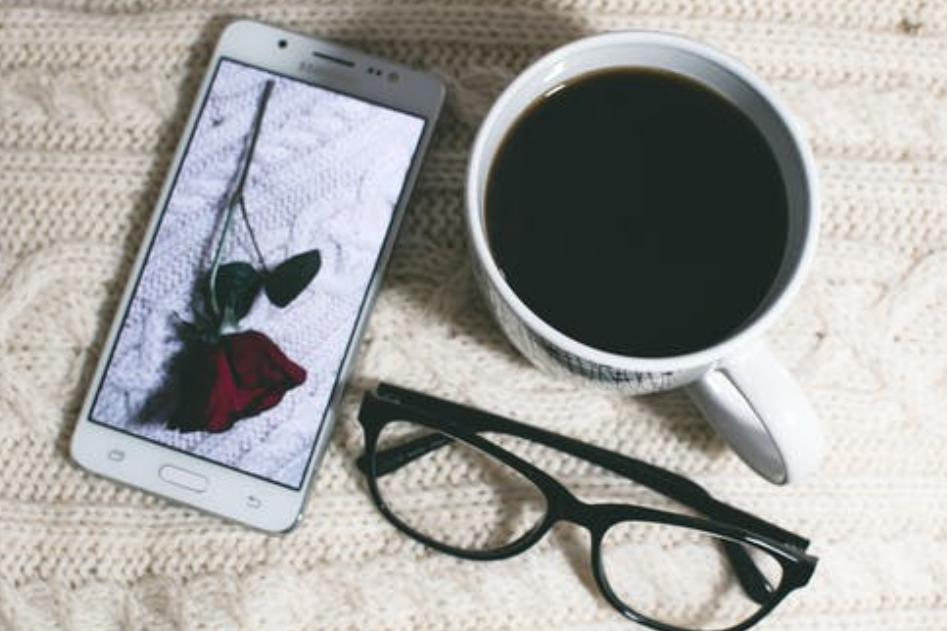mobile: (67, 20, 446, 534)
